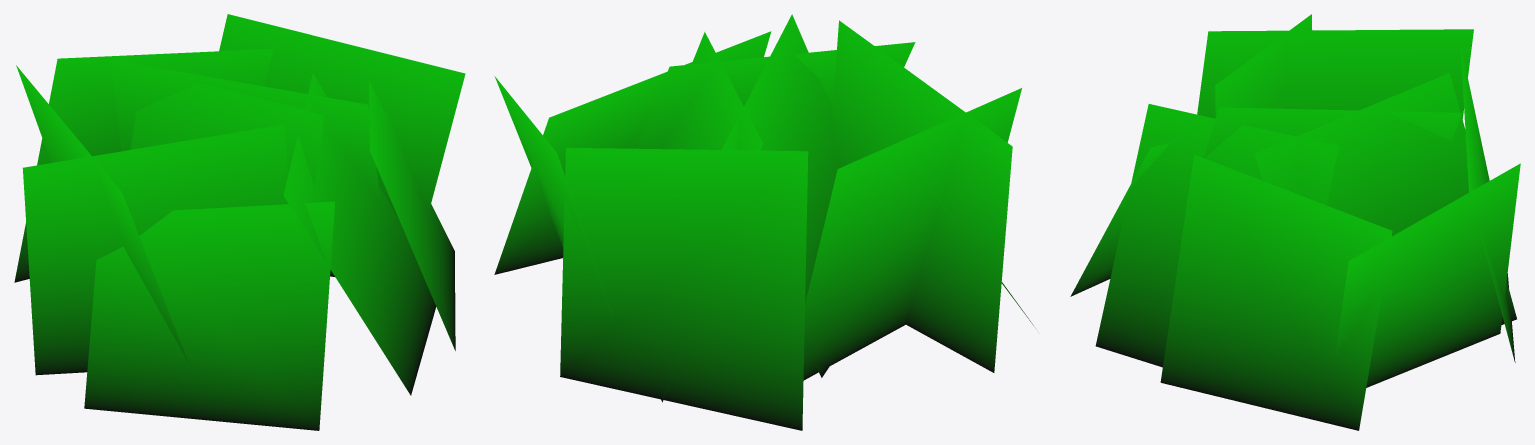
Rendered from SM_Grass_01.fbx.
The picture shows the model from 3 angles, left to right: view 1: azimuth 30°, elevation 25°; view 2: azimuth 150°, elevation 25°; view 3: azimuth 270°, elevation 25°; orthographic projection. The views are drawn at different scales.
Visible parts, largest first — view 1: SM_Grass_01; view 2: SM_Grass_01; view 3: SM_Grass_01.
Boxes of the visible parts, x1=… form: SM_Grass_01: x1=14, y1=14, x2=465, y2=430; SM_Grass_01: x1=494, y1=14, x2=1033, y2=430; SM_Grass_01: x1=1070, y1=14, x2=1520, y2=430.
Size of the model in its own units: 152 by 75.89 by 134.
